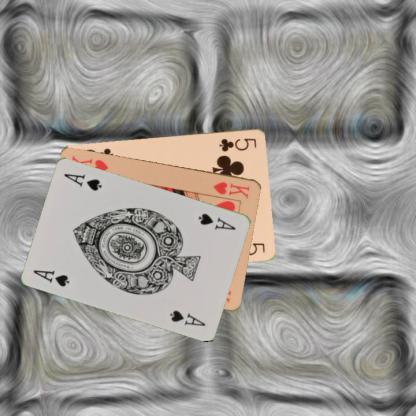5c: (216, 135, 258, 153)
As: (196, 210, 237, 231), (31, 267, 71, 288)
Kh: (211, 178, 251, 200)
